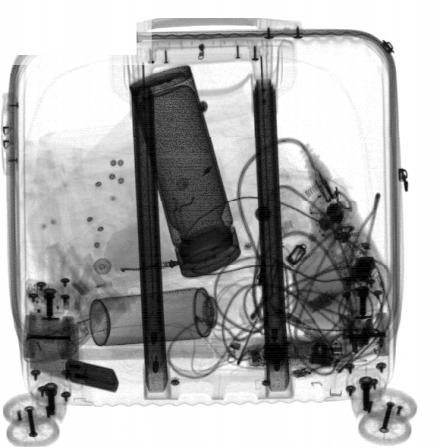Lighter: (65, 358, 119, 393)
Powerbank: (26, 278, 84, 402)
Sprayer: (89, 284, 237, 346)
